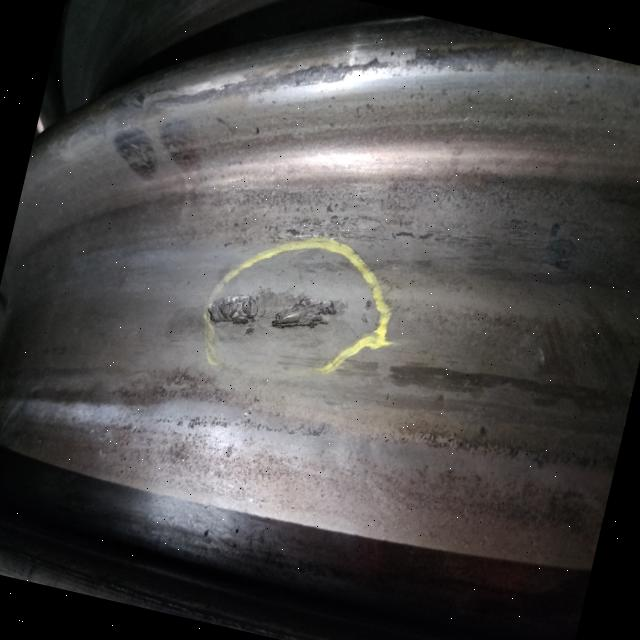Blue hole: (199, 525, 214, 544), (230, 524, 243, 539)
Contact_Fatigue_Cracks: (411, 206, 544, 275), (272, 207, 378, 257)
Peeling: (204, 271, 349, 359)
Rollerpile: (539, 220, 585, 284)
flat: (227, 383, 389, 471), (124, 384, 220, 449)
